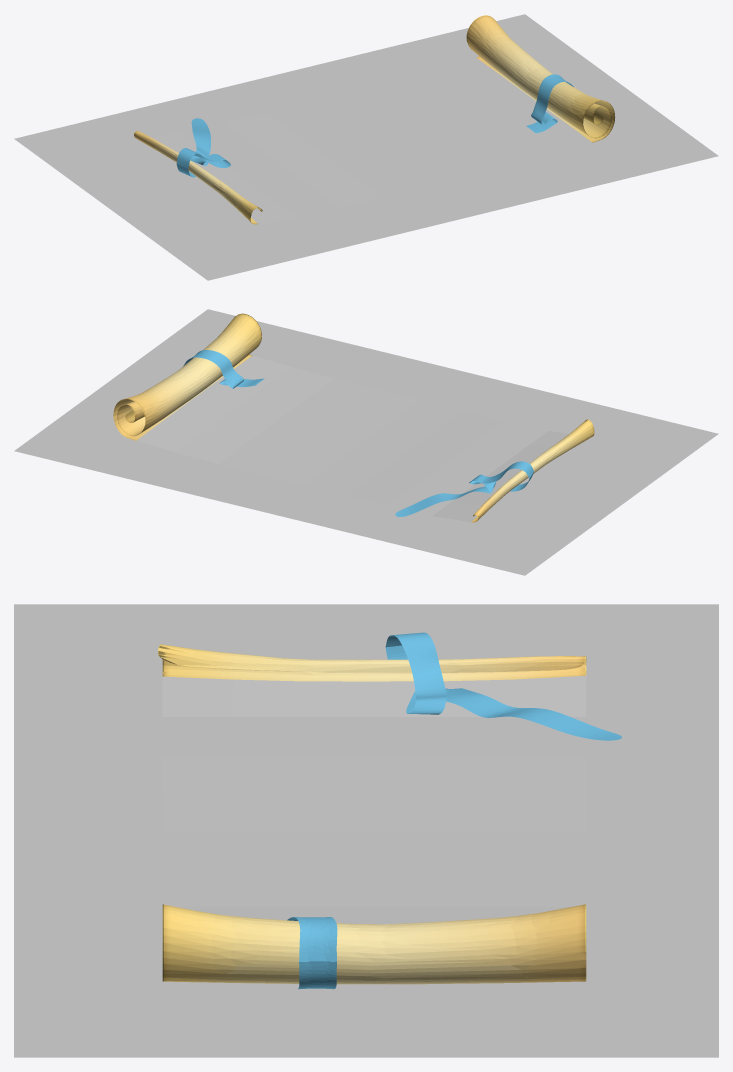
Rendered from 4_scene_parchment_for_export.fbx.
3 renders of one model, top to bottom at view 1: azimuth 30°, elevation 25°; view 2: azimuth 150°, elevation 25°; view 3: azimuth 270°, elevation 25°, orthographic. The views are drawn at different scales.
Parts seen in each view (by area): view 1: table, map_2, map, ribbon_left, ribbon_right; view 2: table, map_2, map, ribbon_left, ribbon_right; view 3: table, map_2, map, ribbon_left, ribbon_right.
Part boxes in pixels (bbox=[...]): table: bbox=[14, 14, 718, 280]; map_2: bbox=[151, 57, 592, 223]; map: bbox=[134, 15, 615, 224]; ribbon_left: bbox=[176, 118, 230, 177]; ribbon_right: bbox=[526, 74, 573, 133]; table: bbox=[14, 309, 718, 575]; map_2: bbox=[136, 355, 568, 522]; map: bbox=[113, 313, 594, 522]; ribbon_left: bbox=[395, 461, 533, 516]; ribbon_right: bbox=[183, 350, 264, 388]; table: bbox=[14, 604, 718, 1057]; map_2: bbox=[162, 675, 586, 973]; map: bbox=[158, 644, 586, 984]; ribbon_left: bbox=[385, 632, 621, 740]; ribbon_right: bbox=[287, 917, 337, 989].
Size of the model in its own units: 9051 by 750 by 5950.
